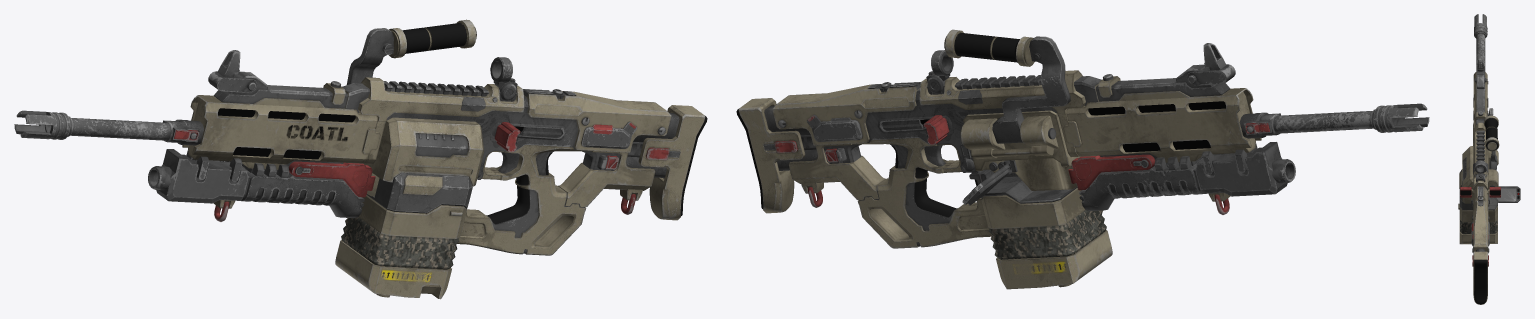
3 renders of one model, left to right at view 1: azimuth 30°, elevation 25°; view 2: azimuth 150°, elevation 25°; view 3: azimuth 270°, elevation 25°, orthographic. The views are drawn at different scales.
Parts seen in each view (by area): view 1: bandygun.002, bandygun.001; view 2: bandygun.002, bandygun.001; view 3: bandygun.002, bandygun.001.
Boxes of the visible parts, <box> form: bandygun.002: <box>14,19,707,255</box>; bandygun.001: <box>335,172,472,299</box>; bandygun.002: <box>736,29,1429,248</box>; bandygun.001: <box>981,172,1112,289</box>; bandygun.002: <box>1460,14,1520,304</box>; bandygun.001: <box>1458,169,1497,244</box>.
Size of the model in its own units: 438 by 170 by 69.19.
Materials: 2 (2 with a texture image).
